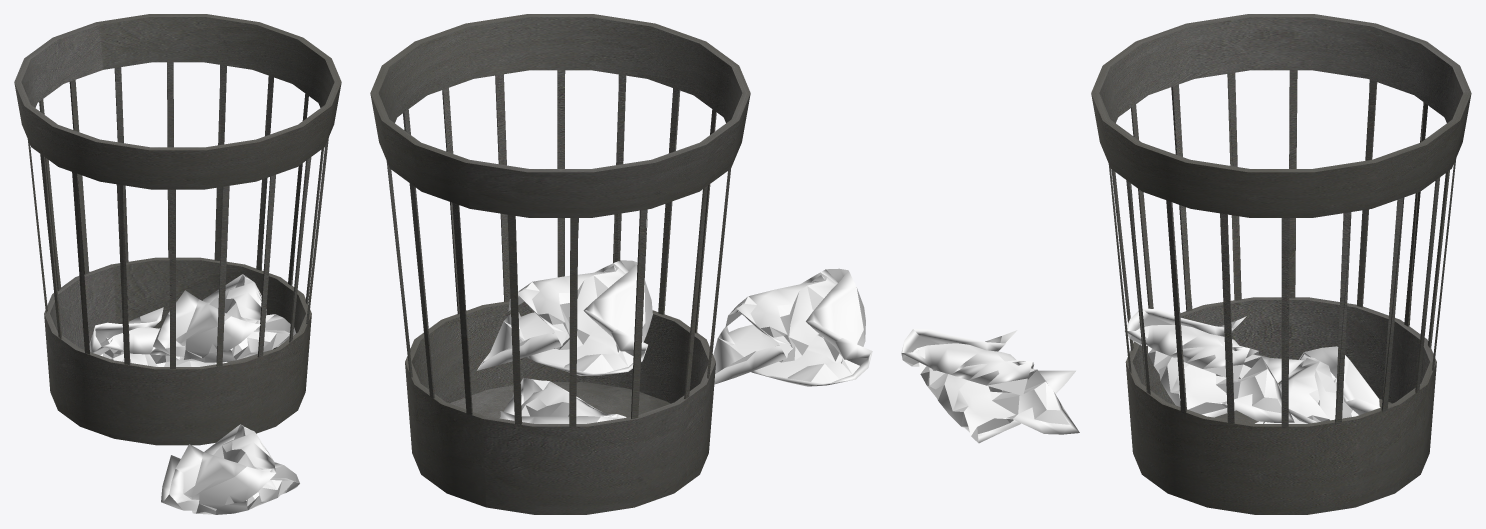
File: Bin.FBX
3 views of the same model, side by side, from view 1: azimuth 30°, elevation 25°; view 2: azimuth 150°, elevation 25°; view 3: azimuth 270°, elevation 25° (orthographic). The views are drawn at different scales.
Parts seen in each view (by area): view 1: Bin, Paper 2, Paper 3, Paper 1; view 2: Bin, Paper 2, Paper 3, Paper 1; view 3: Bin, Paper 2, Paper 3, Paper 1.
Part boxes in pixels (box(x1,y1,x2,y2)): Bin: box(14, 14, 341, 445); Paper 2: box(161, 424, 299, 514); Paper 3: box(153, 274, 296, 362); Paper 1: box(89, 307, 227, 366); Bin: box(370, 14, 750, 514); Paper 2: box(713, 268, 872, 386); Paper 3: box(477, 260, 652, 375); Paper 1: box(499, 377, 626, 423); Bin: box(1091, 14, 1471, 514); Paper 2: box(901, 329, 1079, 443); Paper 3: box(1125, 308, 1303, 422); Paper 1: box(1255, 346, 1380, 423).
Size of the model in its own units: 38.93 by 41.26 by 59.21.
Materials: 2 (1 with a texture image).
